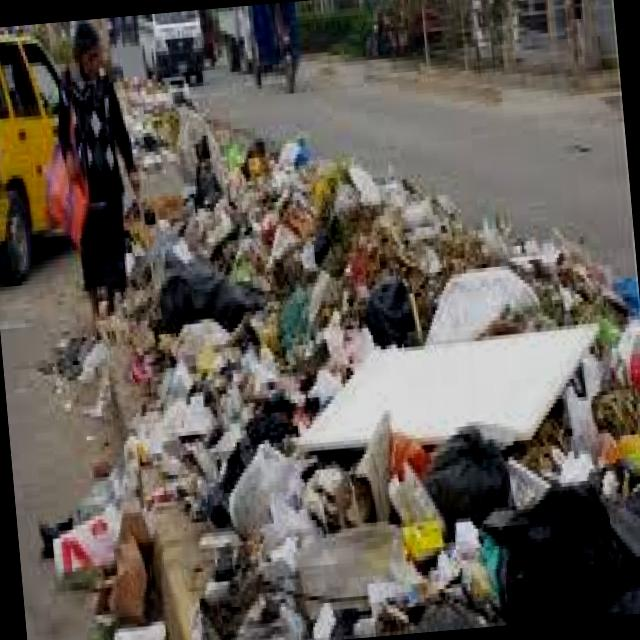garbage: (20, 101, 640, 640)
